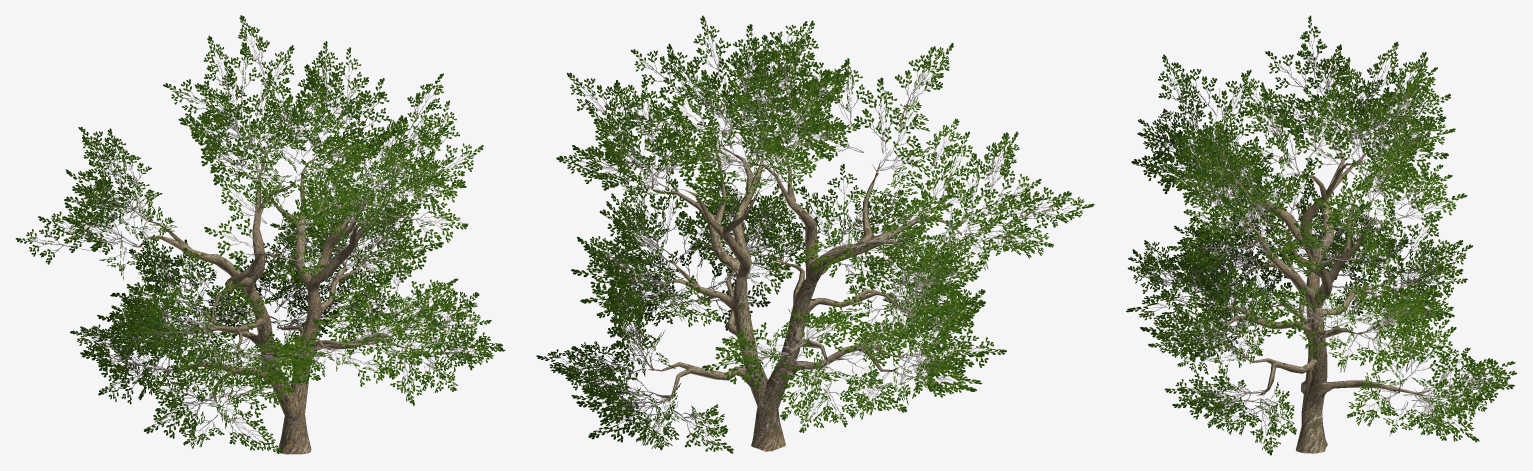
The model's file is oak-far.glb.
3 views of the same model, side by side, from view 1: azimuth 30°, elevation 25°; view 2: azimuth 150°, elevation 25°; view 3: azimuth 270°, elevation 25° (orthographic). The views are drawn at different scales.
Parts seen in each view (by area): view 1: oak leaf_1, mossybark02_0; view 2: oak leaf_1, mossybark02_0; view 3: oak leaf_1, mossybark02_0.
Part boxes in pixels (bbox=[...]): oak leaf_1: bbox=[15, 15, 505, 453]; mossybark02_0: bbox=[78, 78, 446, 454]; oak leaf_1: bbox=[536, 15, 1094, 453]; mossybark02_0: bbox=[605, 83, 1030, 451]; oak leaf_1: bbox=[1126, 15, 1516, 455]; mossybark02_0: bbox=[1178, 83, 1467, 453].
Size of the model in its own units: 10.53 by 8.83 by 8.2.
2 materials, 2 textured.
